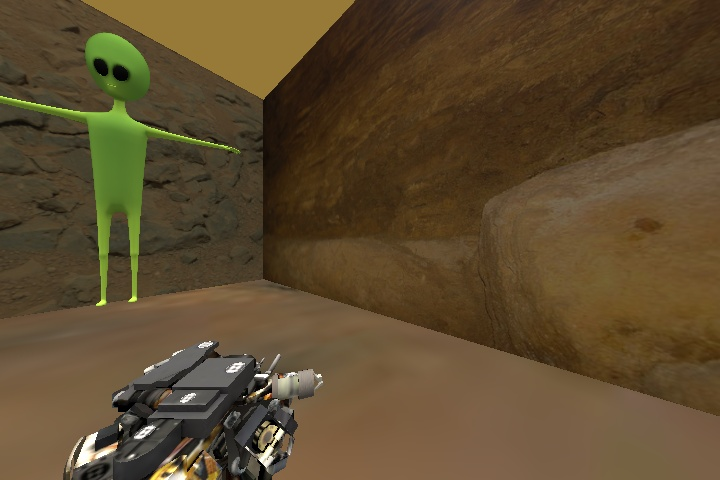alien: (0, 32, 241, 310)
